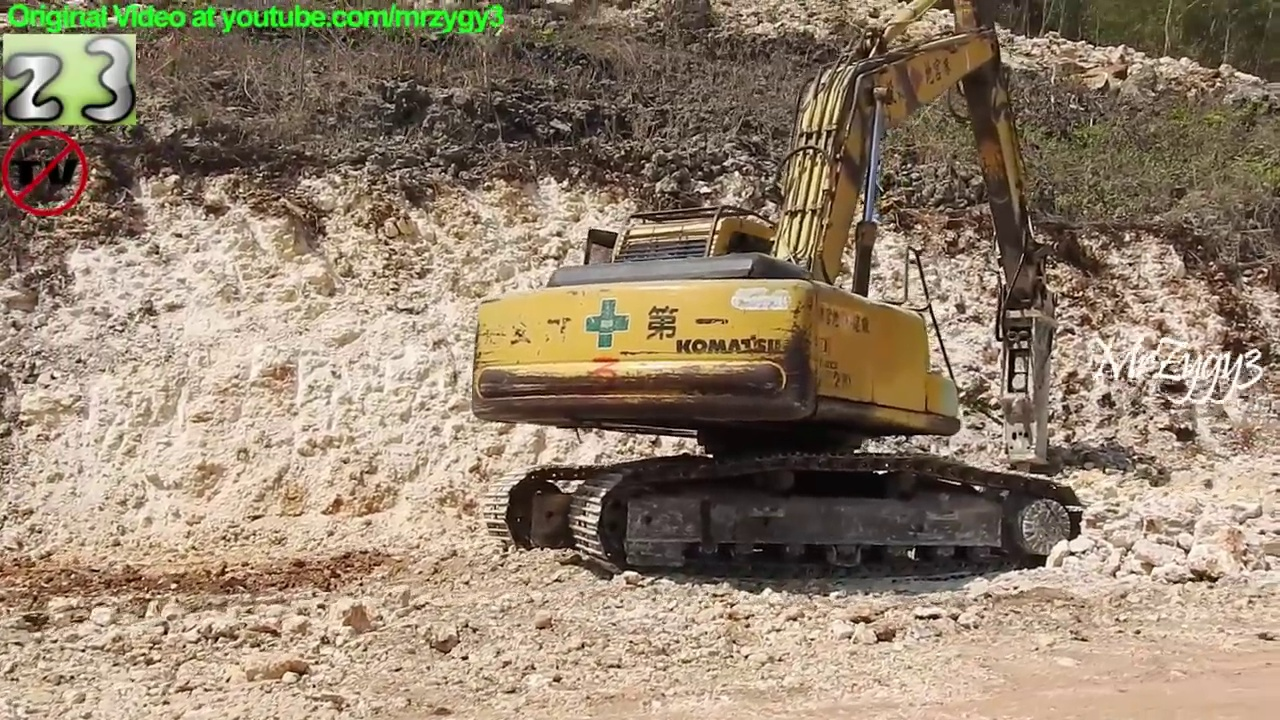excavator breaker: (458, 1, 1093, 599)
